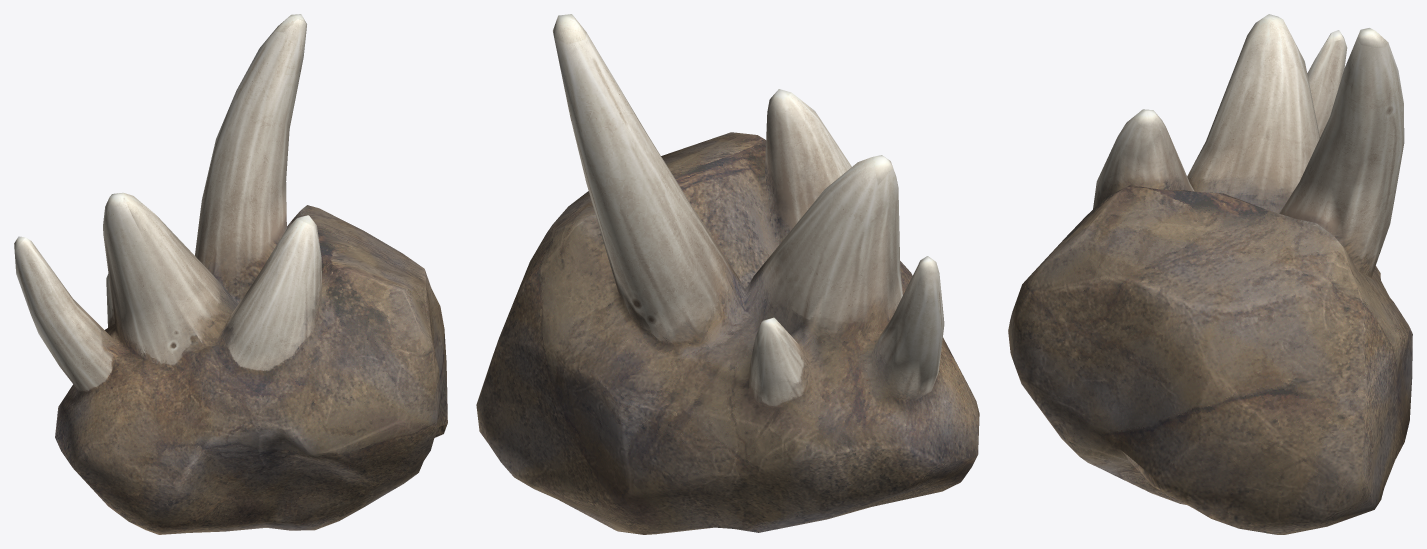
File: SM_FossilNode_6.fbx
3 renders of one model, left to right at view 1: azimuth 30°, elevation 25°; view 2: azimuth 150°, elevation 25°; view 3: azimuth 270°, elevation 25°, orthographic. The views are drawn at different scales.
Visible parts, largest first — view 1: SM_FossilNode_6; view 2: SM_FossilNode_6; view 3: SM_FossilNode_6.
Boxes of the visible parts, box(x1,y1,x2,y2) form: SM_FossilNode_6: box(14, 14, 447, 534); SM_FossilNode_6: box(476, 14, 979, 534); SM_FossilNode_6: box(1008, 14, 1412, 534).
Bounding box in the file's own units: 0.8886 × 0.9679 × 0.7021.
